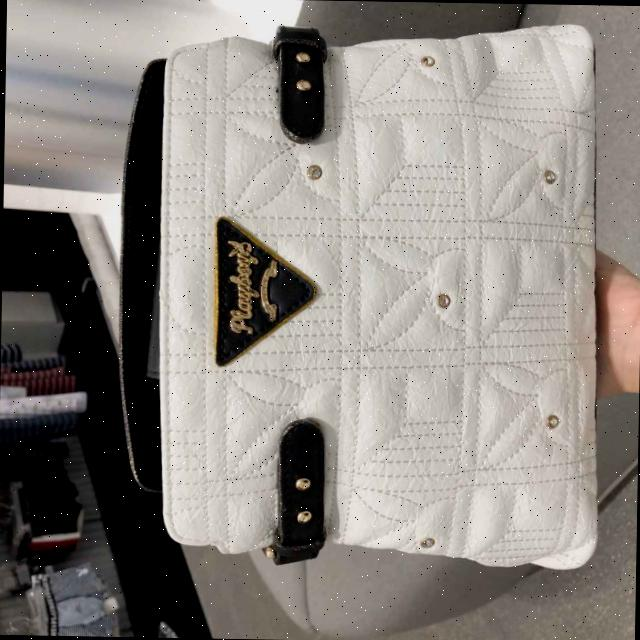Handbag: (127, 0, 622, 599)
